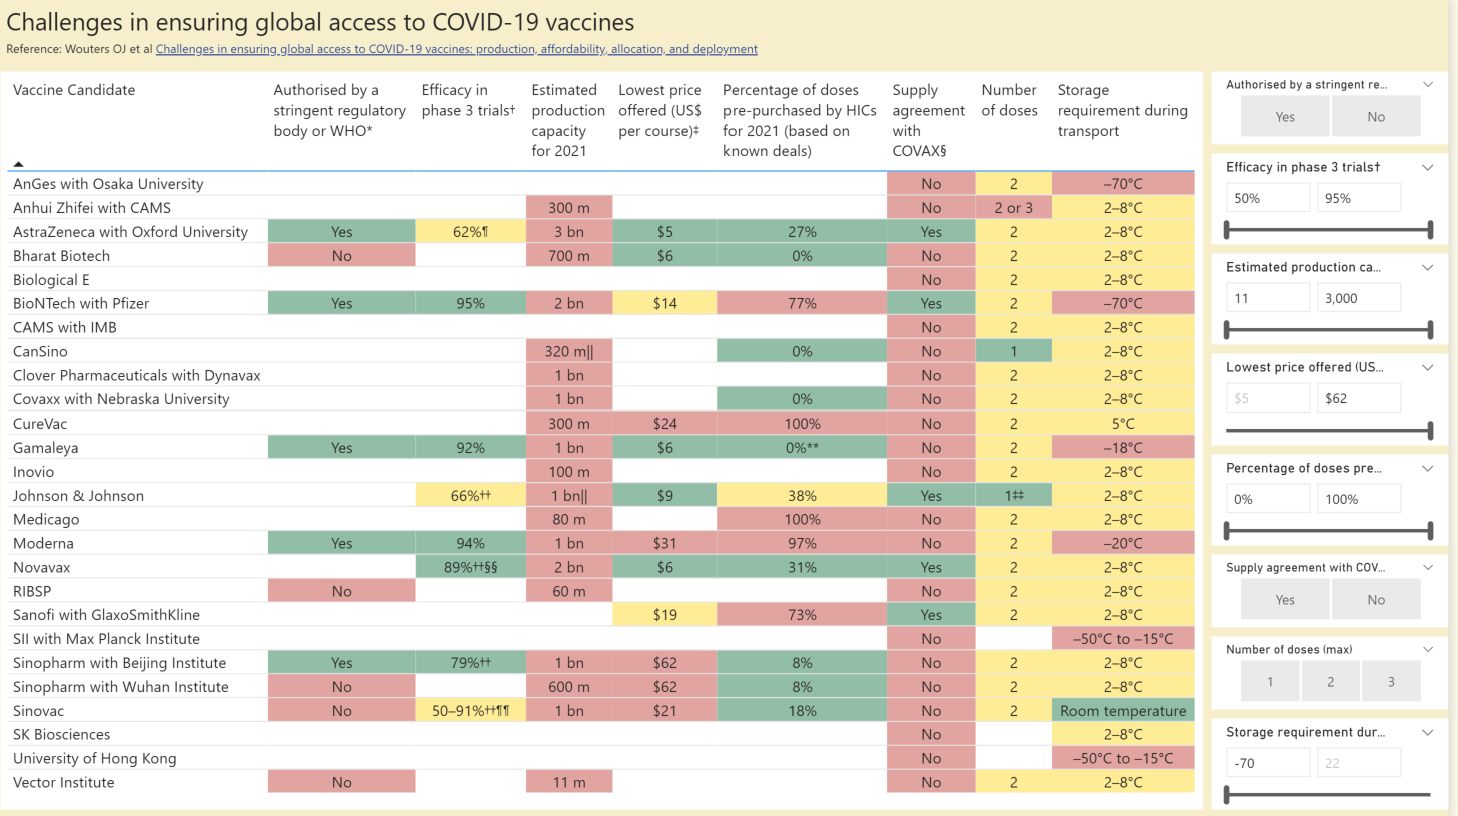

This screenshot's page, from the dashboard's own definition file:
{"tool":"powerbi","page":{"name":"Red-Yellow-Green","canvas":[1280,720],"ordinal":1},"visuals":[{"type":"tableEx","fields":{"Values":["Vaccine Candidates.Vaccine Candidate","Vaccine Candidates.Authorised by a stringent regulatory body or WHO*","Vaccine Candidates.Efficacy in phase 3 trials†","Vaccine Candidates.Estimated production capacity for 2021","Vaccine Candidates.Lowest price offered (US$ per course)‡","Vaccine Candidates.Percentage of doses pre-purchased by HICs for 2021 (based on known deals)","Vaccine Candidates.Supply agreement with COVAX§","Vaccine Candidates.Number of doses","Vaccine Candidates.Storage requirement during transport"]},"box":[8,64,1056,648],"z":0},{"type":"slicer","fields":{"Values":["Vaccine Candidates.Authorised by a stringent regulatory body or WHO*"]},"box":[1072,64,208,64],"z":1000},{"type":"slicer","fields":{"Values":["Vaccine Candidates.Efficacy %"]},"box":[1072,136,208,80],"z":2000},{"type":"slicer","fields":{"Values":["Vaccine Candidates.Estimated production #"]},"box":[1072,224,208,80],"z":3000},{"type":"slicer","fields":{"Values":["Vaccine Candidates.Lowest price offered (US$ per course)‡"]},"box":[1072,312,208,80],"z":4000},{"type":"slicer","fields":{"Values":["Vaccine Candidates.Percentage of doses pre-purchased by HICs for 2021 %"]},"box":[1072,400,208,80],"z":5000},{"type":"slicer","fields":{"Values":["Vaccine Candidates.Supply agreement with COVAX§"]},"box":[1072,488,208,64],"z":6000},{"type":"slicer","fields":{"Values":["Vaccine Candidates.Number of doses #"]},"box":[1072,560,208,64],"z":7000},{"type":"slicer","fields":{"Values":["Vaccine Candidates.Storage requirement during transport # max"]},"box":[1072,632,208,80],"z":8000},{"type":"textbox","box":[8,0,712,64],"z":9000},{"type":"actionButton","box":[1224,0,56,56],"z":10000}]}

Visuals, with their boxes on the page's 1280x720 design canvas (x1, y1, x2, y2). These are canvas units, not pixel positions in the 1458x816 screenshot, which may show the page scaled, cropped or inside an application window:
tableEx - Vaccine Candidates.Vaccine Candidate x Vaccine Candidates.Authorised by a stringent regulatory body or WHO*: left=8, top=64, right=1064, bottom=712
slicer - Vaccine Candidates.Authorised by a stringent regulatory body or WHO*: left=1072, top=64, right=1280, bottom=128
slicer - Vaccine Candidates.Efficacy %: left=1072, top=136, right=1280, bottom=216
slicer - Vaccine Candidates.Estimated production #: left=1072, top=224, right=1280, bottom=304
slicer - Vaccine Candidates.Lowest price offered (US$ per course)‡: left=1072, top=312, right=1280, bottom=392
slicer - Vaccine Candidates.Percentage of doses pre-purchased by HICs for 2021 %: left=1072, top=400, right=1280, bottom=480
slicer - Vaccine Candidates.Supply agreement with COVAX§: left=1072, top=488, right=1280, bottom=552
slicer - Vaccine Candidates.Number of doses #: left=1072, top=560, right=1280, bottom=624
slicer - Vaccine Candidates.Storage requirement during transport # max: left=1072, top=632, right=1280, bottom=712
textbox: left=8, top=0, right=720, bottom=64
actionButton: left=1224, top=0, right=1280, bottom=56
